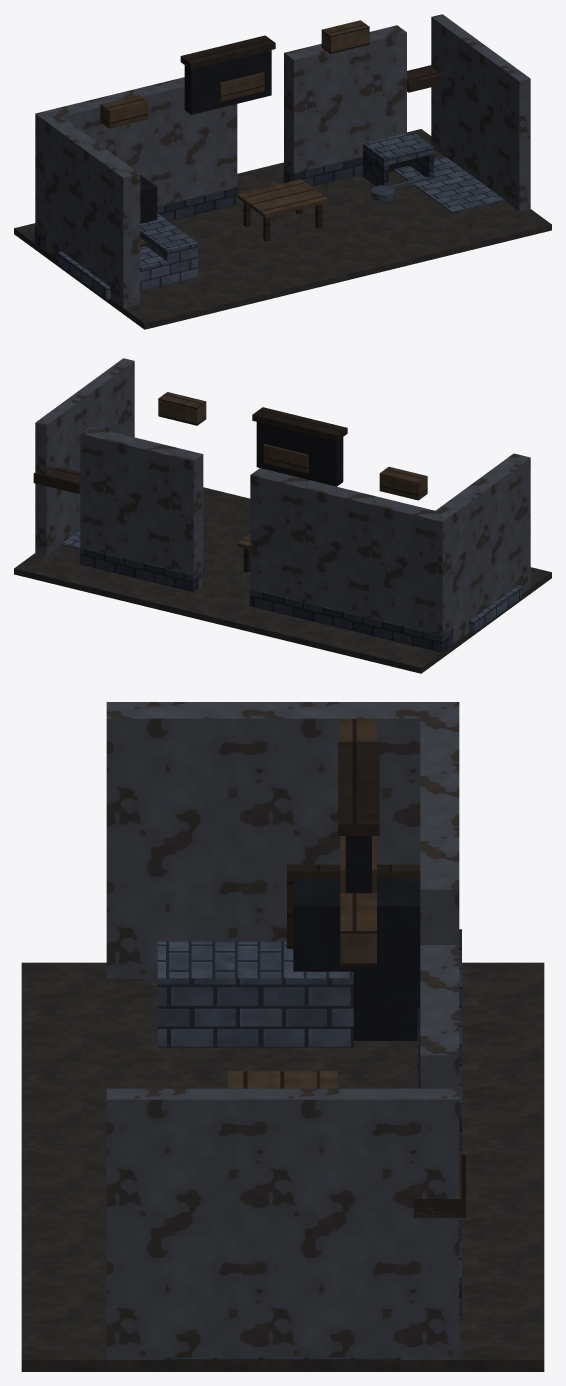
The model's file is village.glb.
The picture shows the model from 3 angles, top to bottom: view 1: azimuth 30°, elevation 25°; view 2: azimuth 150°, elevation 25°; view 3: azimuth 270°, elevation 25°; orthographic projection. The views are drawn at different scales.
Parts seen in each view (by area): view 1: village_plaster, village_earth, village_stone, village_wood, village_void, village_stone_dark, village_wood_dark, village_metal; view 2: village_plaster, village_earth, village_stone_dark, village_wood, village_void, village_wood_dark, village_stone; view 3: village_plaster, village_earth, village_stone, village_void, village_wood_dark, village_wood, village_stone_dark.
Part boxes in pixels (bbox=[...]): village_plaster: bbox=[35, 14, 530, 308]; village_earth: bbox=[14, 129, 551, 329]; village_stone: bbox=[57, 131, 504, 299]; village_wood: bbox=[100, 20, 369, 244]; village_void: bbox=[140, 50, 409, 223]; village_stone_dark: bbox=[34, 131, 433, 250]; village_wood_dark: bbox=[140, 35, 442, 247]; village_metal: bbox=[371, 147, 431, 201]; village_plaster: bbox=[35, 358, 530, 644]; village_earth: bbox=[14, 487, 551, 673]; village_stone_dark: bbox=[80, 547, 452, 652]; village_wood: bbox=[158, 392, 427, 549]; village_void: bbox=[256, 422, 343, 486]; village_wood_dark: bbox=[33, 407, 347, 572]; village_stone: bbox=[61, 530, 521, 633]; village_plaster: bbox=[106, 702, 459, 1359]; village_earth: bbox=[21, 962, 544, 1371]; village_stone: bbox=[157, 941, 400, 1359]; village_void: bbox=[293, 836, 420, 1040]; village_wood_dark: bbox=[287, 741, 465, 1217]; village_wood: bbox=[228, 719, 376, 1088]; village_stone_dark: bbox=[417, 929, 461, 1315].
Size of the model in its own units: 7.27 by 3 by 4.
Materials: 8 (8 with a texture image).
